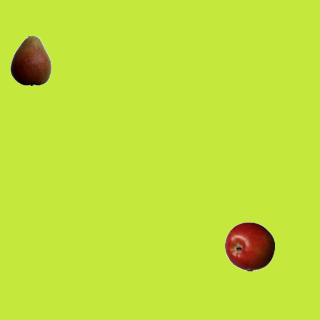Apple Braeburn: (224, 221, 274, 271)
Pear Forelle: (5, 35, 55, 85)
